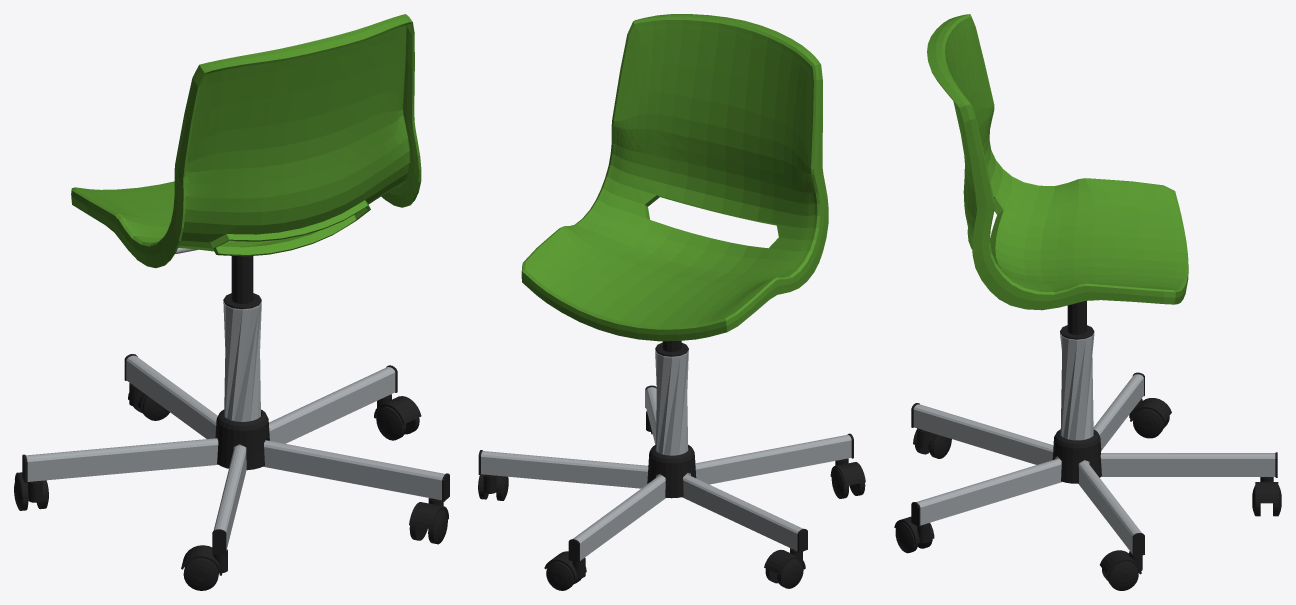
3 views of the same model, side by side, from view 1: azimuth 30°, elevation 25°; view 2: azimuth 150°, elevation 25°; view 3: azimuth 270°, elevation 25° (orthographic). The views are drawn at different scales.
Visible parts, largest first — view 1: Mesh2 Group2 SNILLE_IKEA1 Model, Mesh8 Group6 SNILLE_IKEA1 Model, Mesh7 Group5 SNILLE_IKEA1 Model, Mesh1 Group1 SNILLE_IKEA1 Model, Mesh3 Group3 SNILLE_IKEA1 Model, Mesh14 ROULETTE2 SNILLE_IKEA1 Model, Mesh15 ROULETTE3 SNILLE_IKEA1 Model, Mesh21 ROULETTE5 SNILLE_IKEA1 Model, Mesh22 ROULETTE5 SNILLE_IKEA1 Model, Mesh12 ROULETTE2 SNILLE_IKEA1 Model, Mesh18 ROULETTE4 SNILLE_IKEA1 Model; view 2: Mesh2 Group2 SNILLE_IKEA1 Model, Mesh8 Group6 SNILLE_IKEA1 Model, Mesh7 Group5 SNILLE_IKEA1 Model, Mesh1 Group1 SNILLE_IKEA1 Model, Mesh11 ROULETTE1 SNILLE_IKEA1 Model, Mesh12 ROULETTE2 SNILLE_IKEA1 Model, Mesh18 ROULETTE4 SNILLE_IKEA1 Model, Mesh20 ROULETTE4 SNILLE_IKEA1 Model; view 3: Mesh2 Group2 SNILLE_IKEA1 Model, Mesh8 Group6 SNILLE_IKEA1 Model, Mesh7 Group5 SNILLE_IKEA1 Model, Mesh1 Group1 SNILLE_IKEA1 Model, Mesh3 Group3 SNILLE_IKEA1 Model, Mesh23 ROULETTE5 SNILLE_IKEA1 Model, Mesh19 ROULETTE4 SNILLE_IKEA1 Model, Mesh9 ROULETTE1 SNILLE_IKEA1 Model, Mesh21 ROULETTE5 SNILLE_IKEA1 Model, Mesh18 ROULETTE4 SNILLE_IKEA1 Model, Mesh15 ROULETTE3 SNILLE_IKEA1 Model.
Boxes of the visible parts, x1,y1,x2,y2 form: Mesh2 Group2 SNILLE_IKEA1 Model: (71, 14, 421, 268); Mesh8 Group6 SNILLE_IKEA1 Model: (22, 354, 449, 554); Mesh7 Group5 SNILLE_IKEA1 Model: (223, 302, 261, 421); Mesh1 Group1 SNILLE_IKEA1 Model: (215, 409, 269, 470); Mesh3 Group3 SNILLE_IKEA1 Model: (223, 256, 261, 309); Mesh14 ROULETTE2 SNILLE_IKEA1 Model: (183, 558, 218, 590); Mesh15 ROULETTE3 SNILLE_IKEA1 Model: (409, 498, 448, 529); Mesh21 ROULETTE5 SNILLE_IKEA1 Model: (374, 394, 421, 424); Mesh22 ROULETTE5 SNILLE_IKEA1 Model: (376, 406, 406, 440); Mesh12 ROULETTE2 SNILLE_IKEA1 Model: (181, 545, 227, 575); Mesh18 ROULETTE4 SNILLE_IKEA1 Model: (14, 472, 48, 502); Mesh2 Group2 SNILLE_IKEA1 Model: (521, 14, 828, 341); Mesh8 Group6 SNILLE_IKEA1 Model: (478, 385, 853, 562); Mesh7 Group5 SNILLE_IKEA1 Model: (655, 350, 688, 455); Mesh1 Group1 SNILLE_IKEA1 Model: (647, 444, 696, 498); Mesh11 ROULETTE1 SNILLE_IKEA1 Model: (546, 561, 574, 590); Mesh12 ROULETTE2 SNILLE_IKEA1 Model: (830, 458, 865, 485); Mesh18 ROULETTE4 SNILLE_IKEA1 Model: (764, 548, 805, 574); Mesh20 ROULETTE4 SNILLE_IKEA1 Model: (777, 558, 803, 588); Mesh2 Group2 SNILLE_IKEA1 Model: (927, 14, 1188, 310); Mesh8 Group6 SNILLE_IKEA1 Model: (911, 372, 1277, 556); Mesh7 Group5 SNILLE_IKEA1 Model: (1060, 333, 1094, 440); Mesh1 Group1 SNILLE_IKEA1 Model: (1052, 429, 1101, 483); Mesh3 Group3 SNILLE_IKEA1 Model: (1060, 301, 1094, 339); Mesh23 ROULETTE5 SNILLE_IKEA1 Model: (1107, 561, 1138, 590); Mesh19 ROULETTE4 SNILLE_IKEA1 Model: (1133, 409, 1164, 438); Mesh9 ROULETTE1 SNILLE_IKEA1 Model: (1255, 477, 1278, 503); Mesh21 ROULETTE5 SNILLE_IKEA1 Model: (1100, 550, 1142, 574); Mesh18 ROULETTE4 SNILLE_IKEA1 Model: (1129, 398, 1171, 421); Mesh15 ROULETTE3 SNILLE_IKEA1 Model: (894, 516, 934, 543).
Size of the model in its own units: 0.5957 by 0.7642 by 0.5851.
